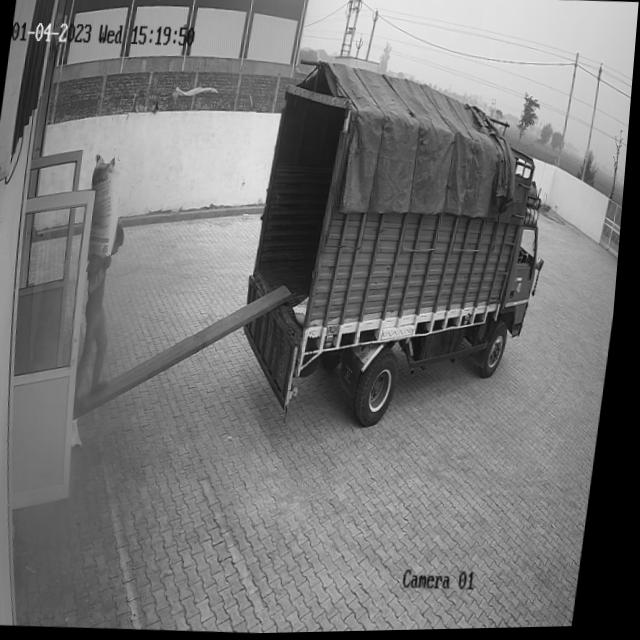sack: (85, 153, 129, 263)
